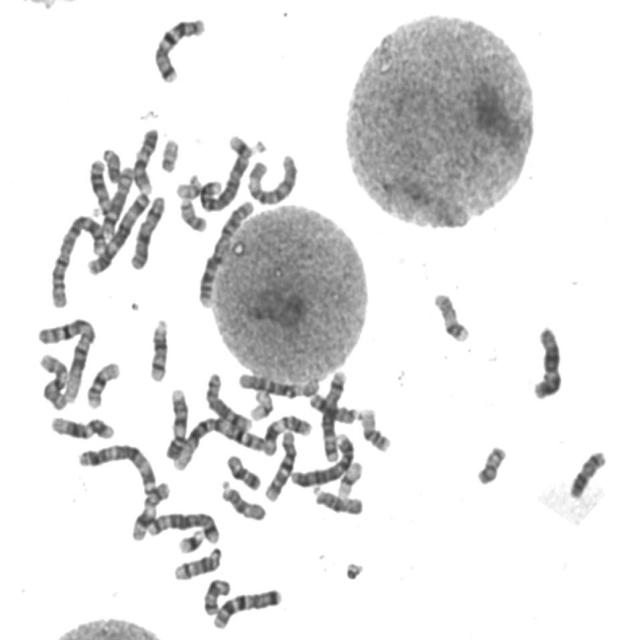A1: (34, 312, 98, 408), (168, 412, 266, 471)
A2: (194, 195, 256, 309), (46, 208, 107, 310)
A3: (83, 187, 153, 276), (73, 438, 159, 496)
B4: (287, 428, 356, 488), (196, 144, 252, 213)
B5: (317, 366, 349, 463), (145, 507, 220, 544)
C10: (261, 425, 299, 503), (35, 349, 70, 411)
C11: (128, 478, 172, 543), (258, 410, 314, 457)
C12: (524, 325, 570, 401), (46, 410, 117, 442)
C6: (243, 148, 300, 207), (235, 368, 321, 400)
C7: (149, 12, 208, 85), (208, 583, 284, 631)
C8: (202, 368, 254, 432), (98, 162, 136, 238)
C9: (129, 124, 160, 195), (162, 383, 190, 461)
D13: (305, 388, 361, 426), (84, 154, 112, 215)
D14: (170, 542, 223, 582), (145, 314, 171, 384)
D15: (217, 475, 268, 523), (310, 483, 364, 516)
E16: (82, 357, 122, 410), (356, 403, 394, 454)
E17: (429, 287, 472, 344), (566, 447, 609, 499)
E18: (222, 450, 262, 492), (200, 575, 232, 617)
F19: (334, 457, 364, 500), (247, 384, 274, 422)
F20: (472, 440, 508, 487), (176, 195, 208, 232)
G21: (174, 524, 207, 555), (225, 129, 256, 159)
G22: (156, 133, 181, 174), (172, 169, 204, 201)
X: (125, 190, 167, 271)
Y: (98, 141, 125, 188)
